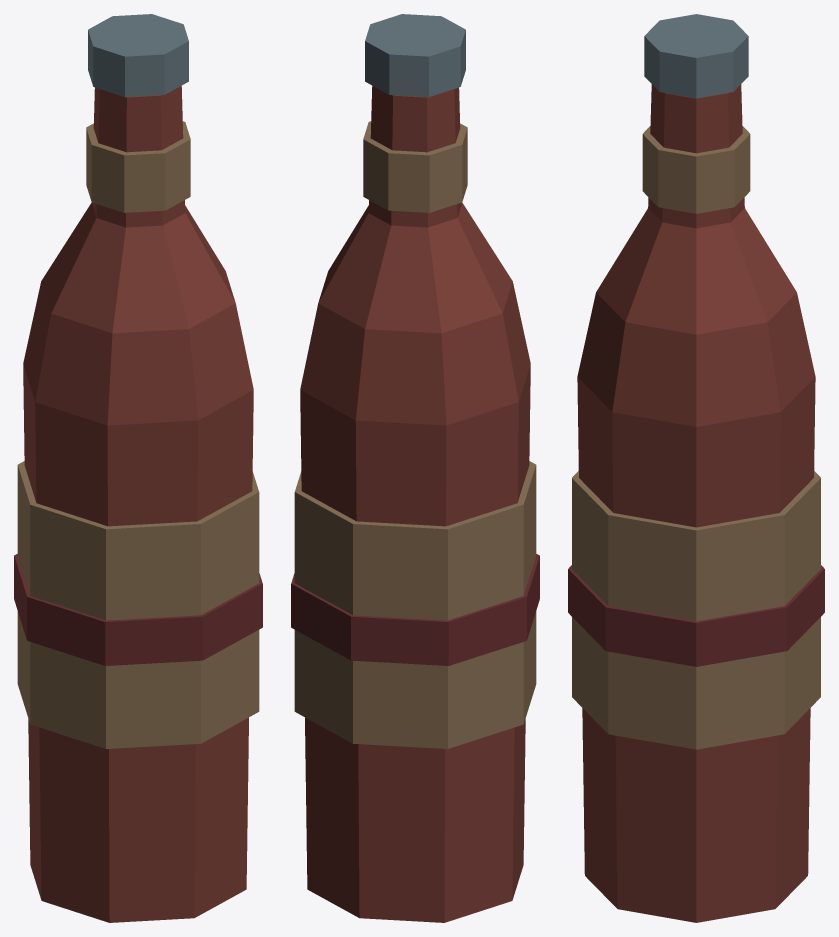
The model's file is bere.glb.
3 renders of one model, left to right at view 1: azimuth 30°, elevation 25°; view 2: azimuth 150°, elevation 25°; view 3: azimuth 270°, elevation 25°, orthographic.
Parts seen in each view (by area): view 1: Bere; view 2: Bere; view 3: Bere.
Boxes of the visible parts, x1,y1,x2,y2 form: Bere: [14, 14, 262, 922]; Bere: [291, 14, 539, 922]; Bere: [568, 14, 824, 922].
Bounding box in the file's own units: 0.069 × 0.251 × 0.069.
